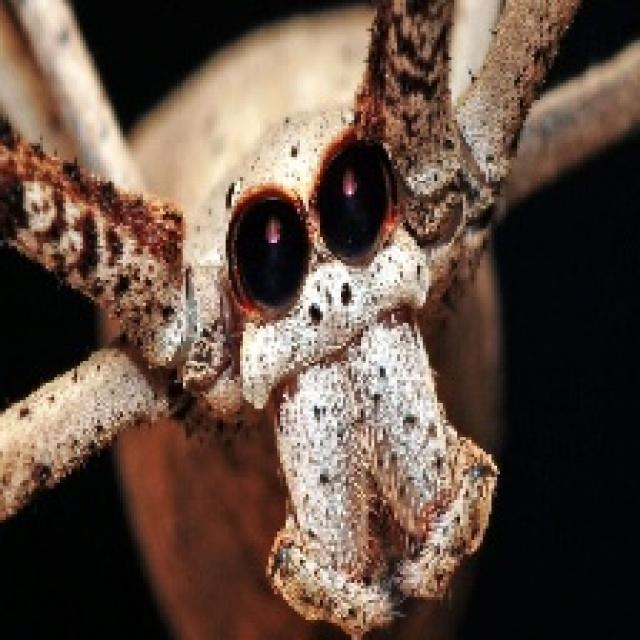Non venomous spider: (47, 70, 572, 610)
